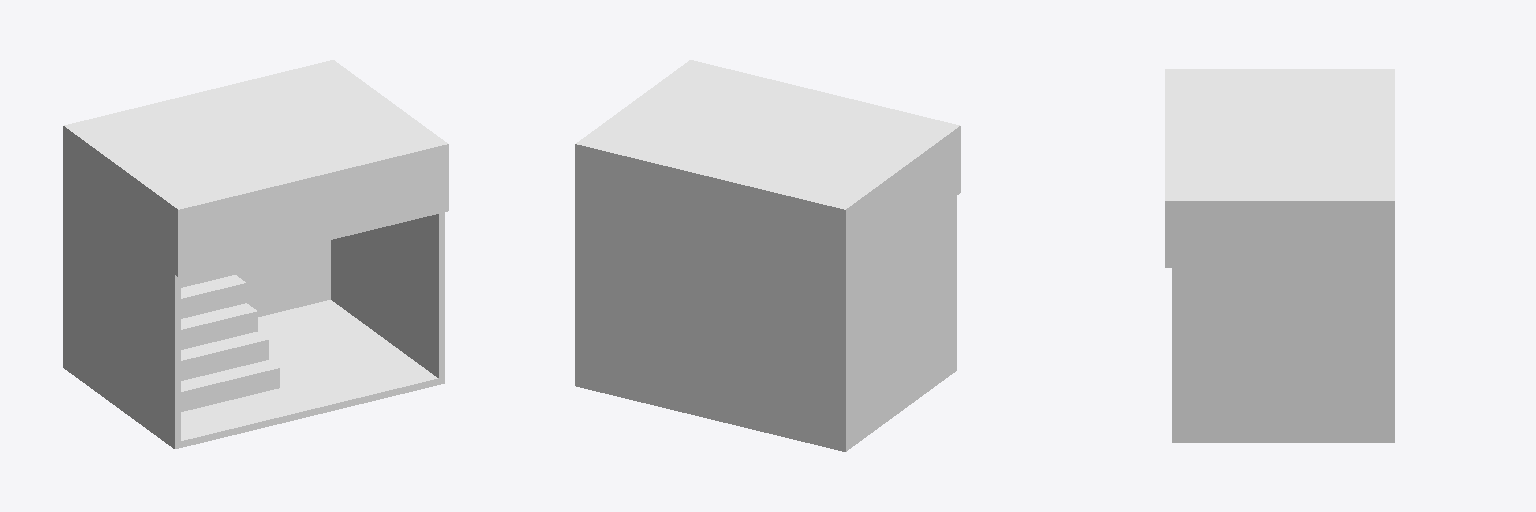
The model's file is store_1.obj.
3 renders of one model, left to right at view 1: azimuth 30°, elevation 25°; view 2: azimuth 150°, elevation 25°; view 3: azimuth 270°, elevation 25°, orthographic.
Parts seen in each view (by area): view 1: store_1; view 2: store_1; view 3: store_1.
Boxes of the visible parts, x1=… form: store_1: x1=63, y1=60, x2=448, y2=448; store_1: x1=575, y1=60, x2=960, y2=451; store_1: x1=1165, y1=69, x2=1394, y2=442.
Size of the model in its own units: 42 by 36 by 31.